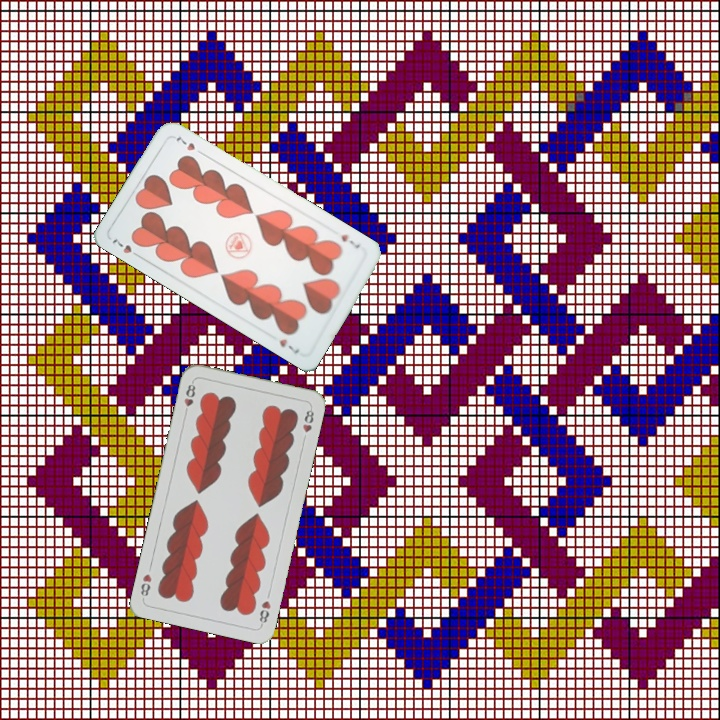H7: (108, 235, 144, 261), (337, 229, 363, 251)
H8: (180, 378, 198, 418), (255, 596, 273, 628)
